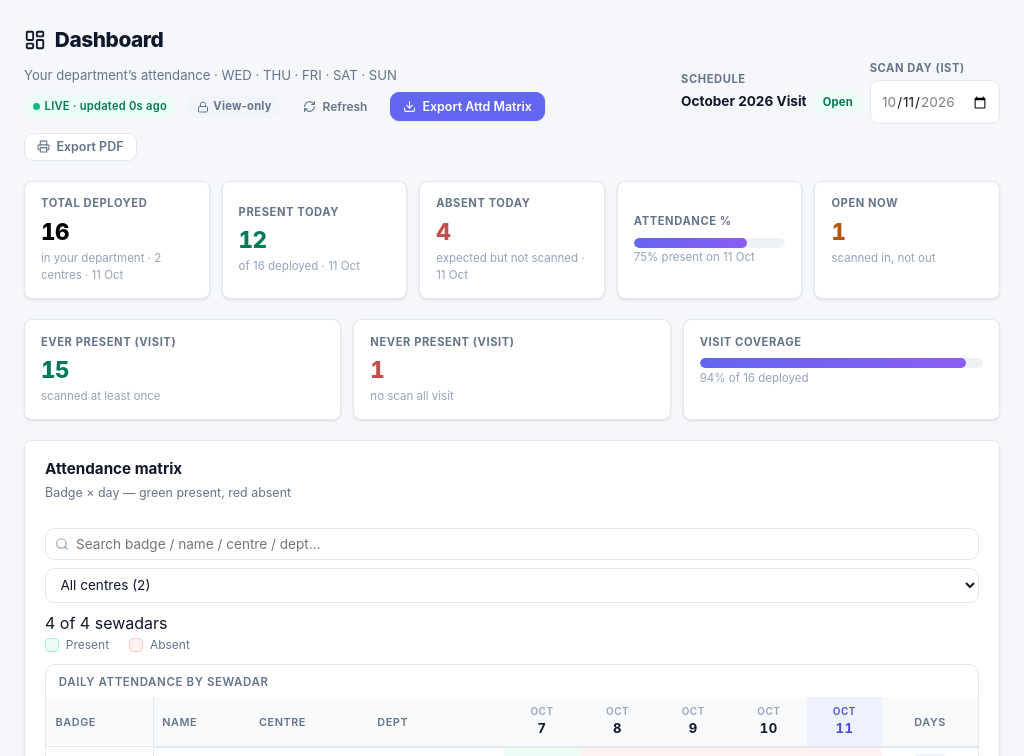
Test: DeptInchargeDashboardPage — matrix search and centre filter › clears both filters with one button
Type "bina" into the field named "Search attendance matrix" at point(512, 544), box [45,528,979,560]
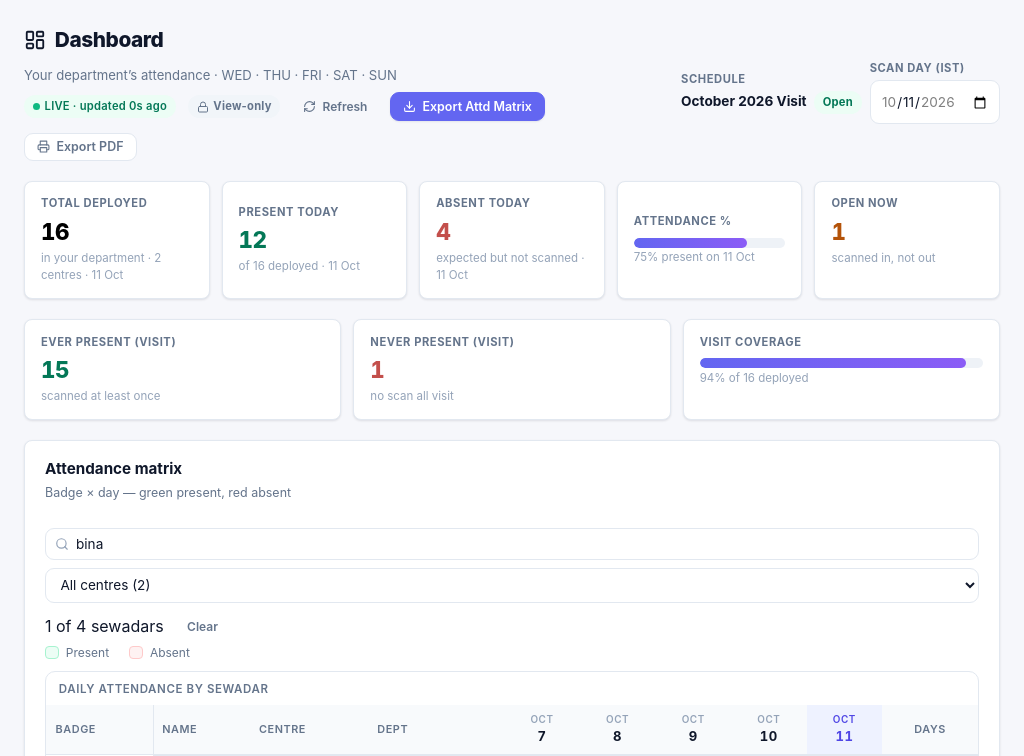
Select "NOIDA" in the dropdown named "Filter matrix by centre" at point(512, 585), box [45,568,979,603]
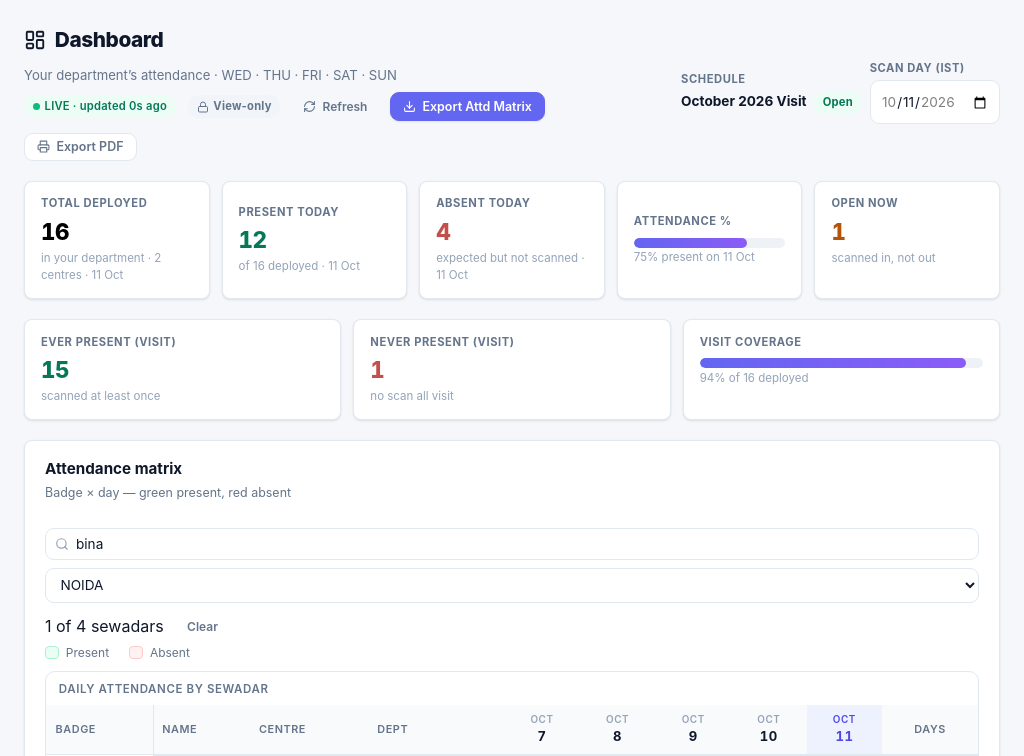
Click the button "Clear" at point(202, 626), box [172,611,233,642]
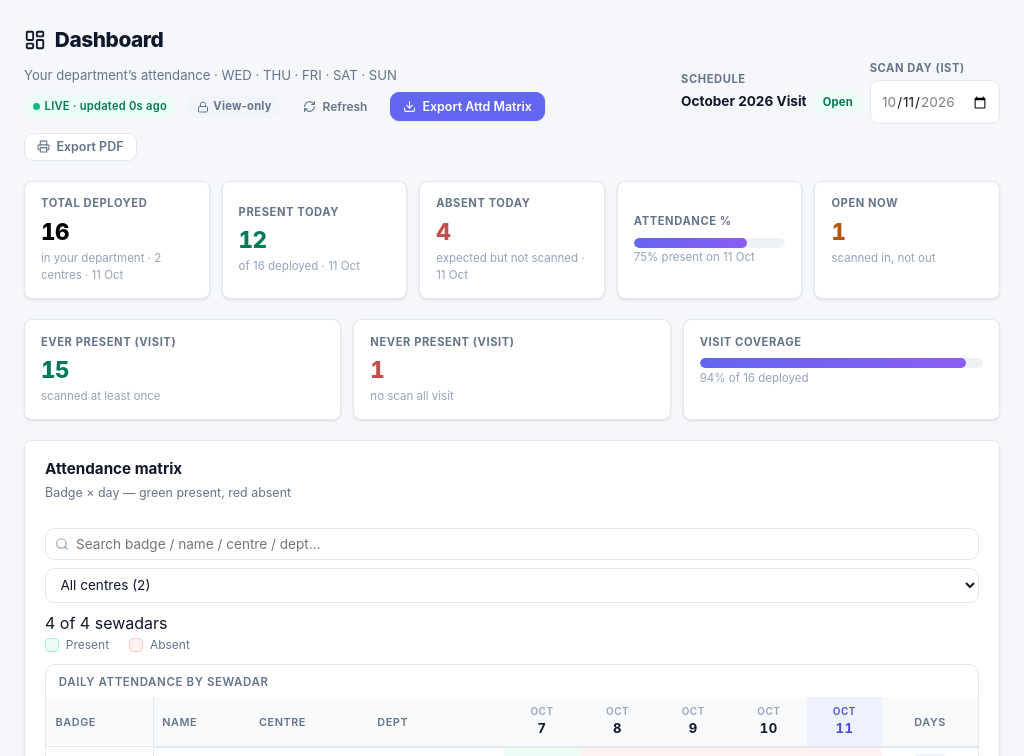
Result: the text "4 of 4 sewadars" is shown at [45,611,168,635]
Result: the button "Clear" is gone
